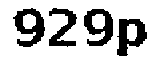2: (44, 6, 80, 52)
9: (80, 5, 114, 50), (9, 8, 45, 47)
p: (115, 16, 150, 60)
